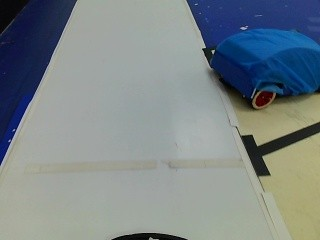car: (211, 28, 318, 107)
